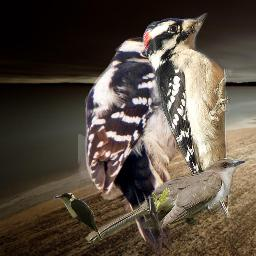Cuckoo: (85, 158, 245, 243), (54, 193, 102, 240)
Woodpecker: (78, 34, 225, 255), (142, 13, 233, 218)
